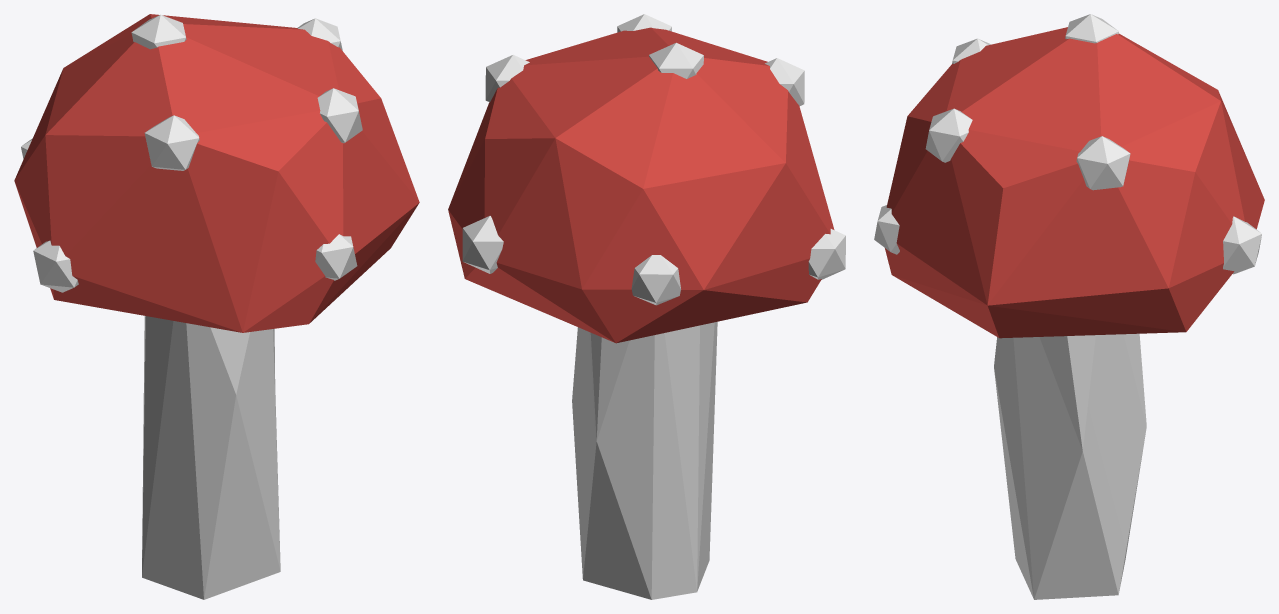
File: Mushroom_01 2.glb
3 renders of one model, left to right at view 1: azimuth 30°, elevation 25°; view 2: azimuth 150°, elevation 25°; view 3: azimuth 270°, elevation 25°, orthographic. The views are drawn at different scales.
Visible parts, largest first — view 1: Mushroom_01_LOD0; view 2: Mushroom_01_LOD0; view 3: Mushroom_01_LOD0.
Boxes of the visible parts, <box> form: Mushroom_01_LOD0: <box>14,14,419,599</box>; Mushroom_01_LOD0: <box>448,14,845,599</box>; Mushroom_01_LOD0: <box>874,14,1264,599</box>.
Size of what is drawn, in the model's own units: 0.2252 by 0.3407 by 0.2222.
1 material, 1 textured.
